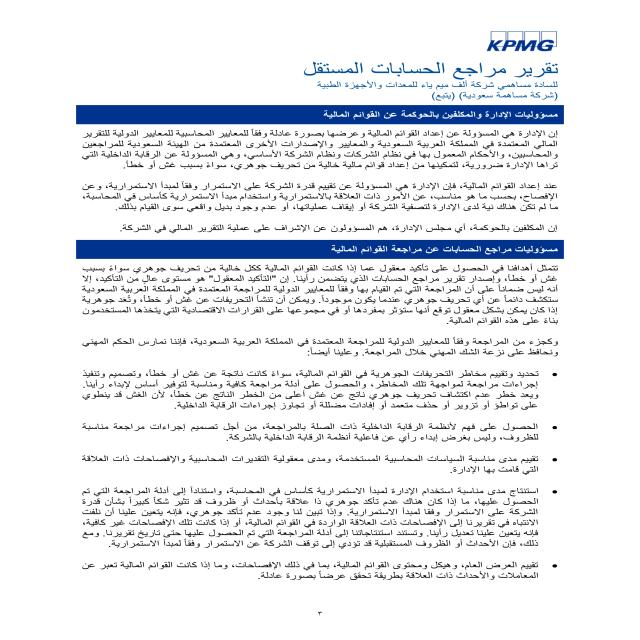auditor_report: (300, 60, 563, 80)
